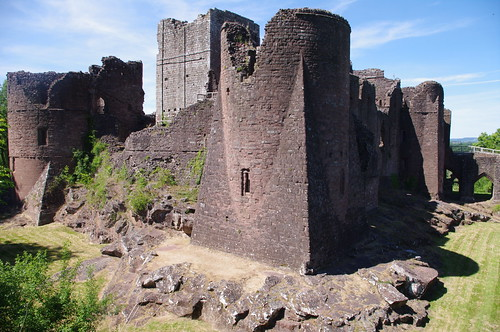building: (1, 1, 476, 312)
sky: (10, 1, 496, 125)
tree: (1, 264, 97, 332)
